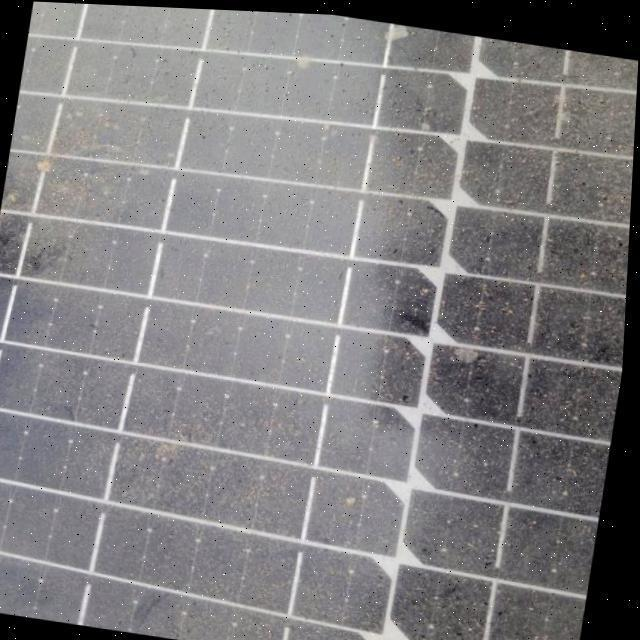Surface Contaminant: (0, 1, 639, 640)
